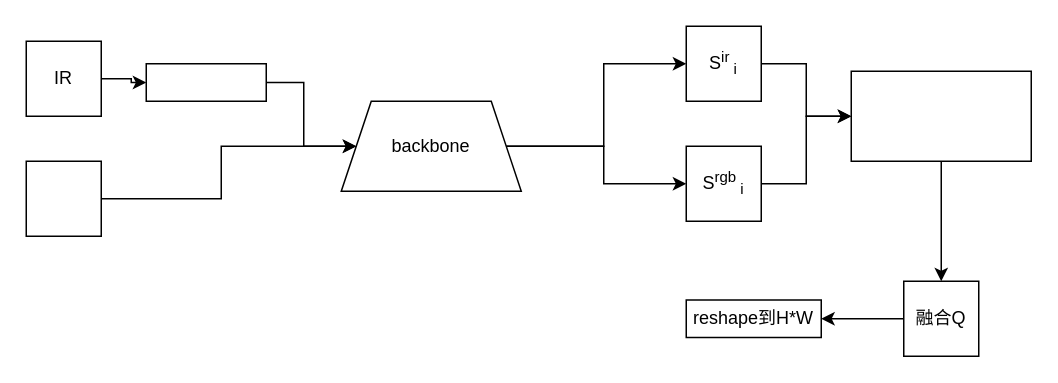
The diagram is 1058 pixels wide and 383 high, and some of its shapes have lost their labels. The shapes that lost their labels are listed below. From the top down, each one's centre as x and y in pixels, then its label:
At point 205,81: "1*1为3通道".
At point 940,115: "Feature Fusion".
At point 63,198: "RGB".
